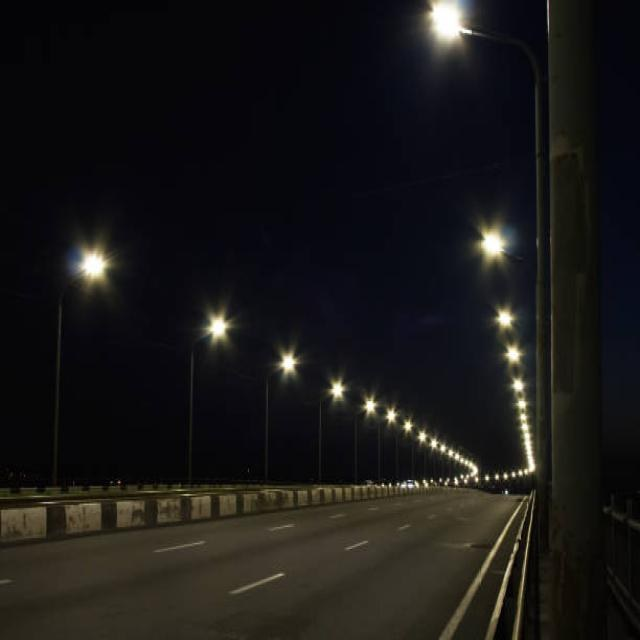acesa: (67, 239, 120, 290), (471, 220, 518, 263), (196, 306, 237, 351), (428, 0, 466, 43), (492, 305, 522, 355), (271, 344, 304, 381), (326, 372, 352, 405), (365, 398, 377, 416)
